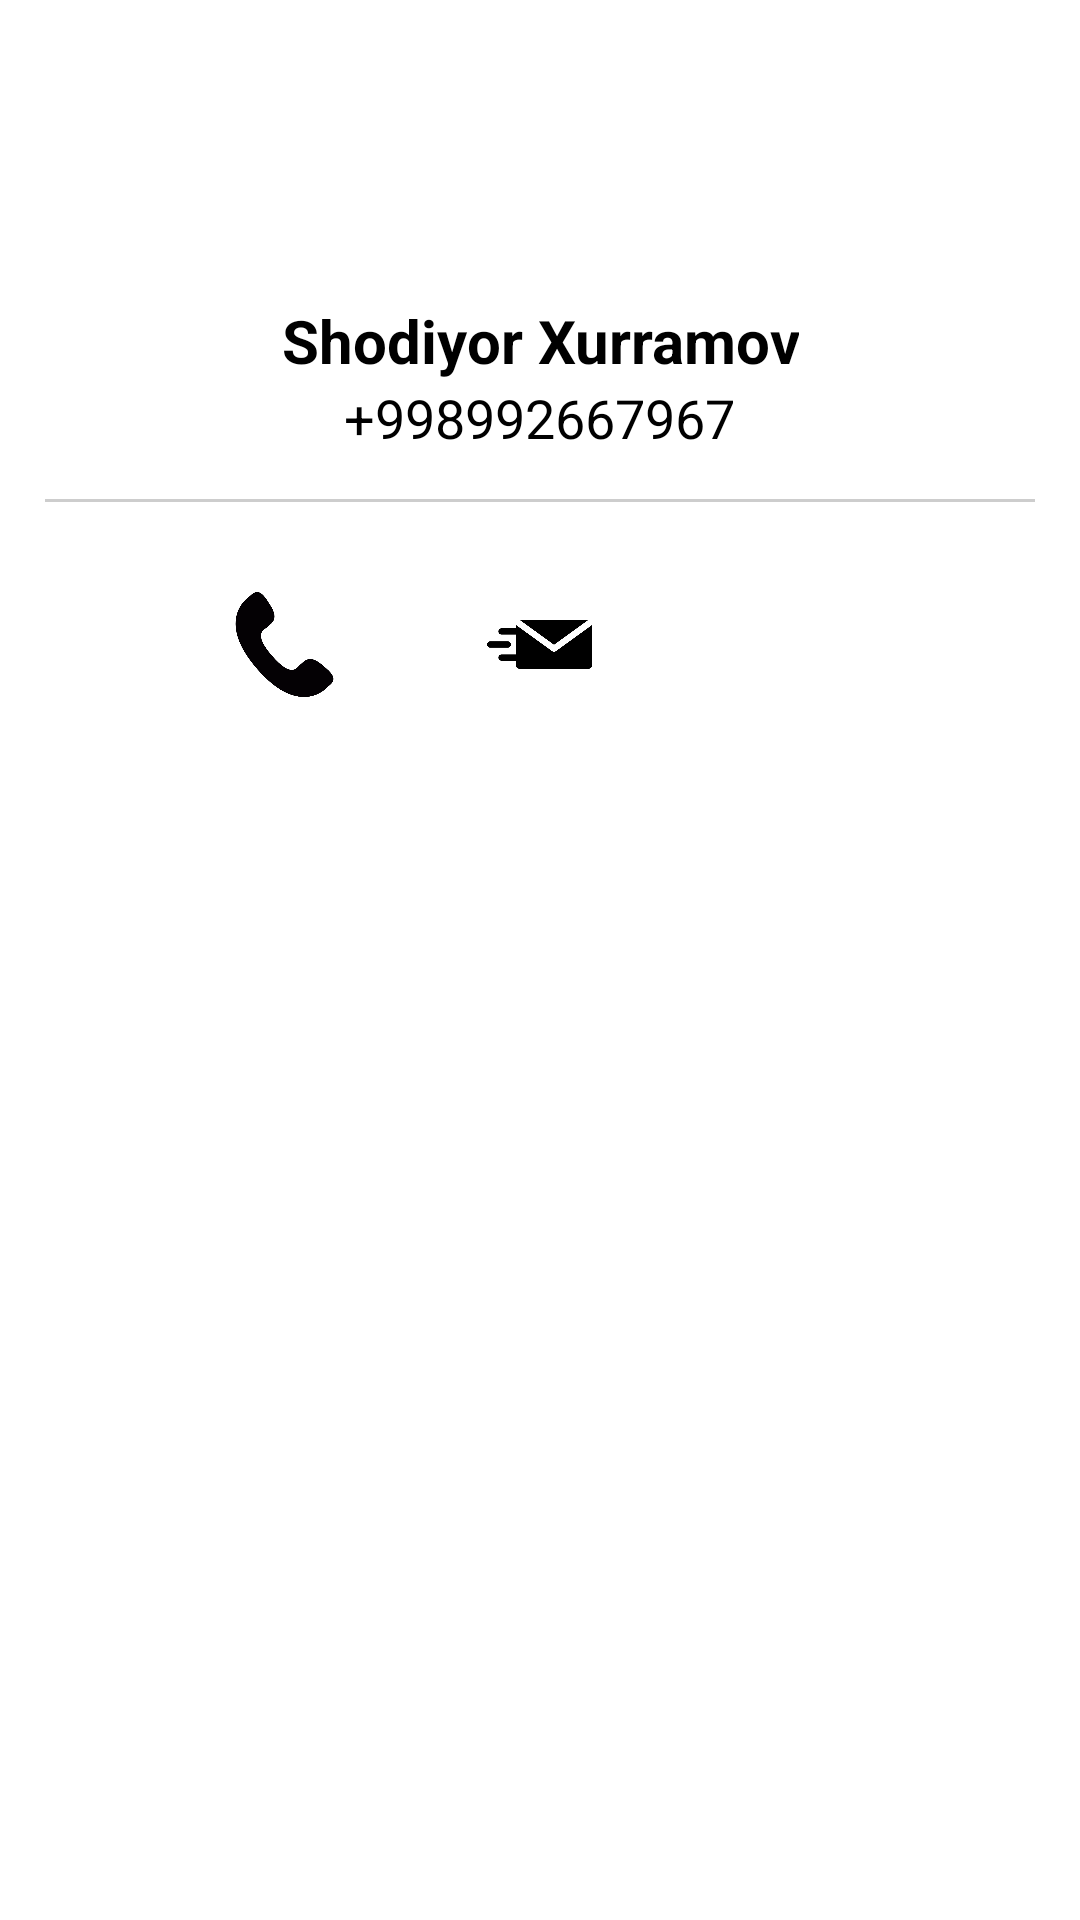

Where icons sit on this 1080×1920 app screen, as (x1, y1, x2, y2):
call: (235, 592, 334, 697)
